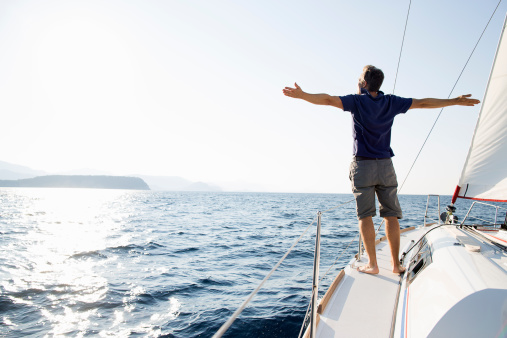em pe: (278, 44, 459, 278)
